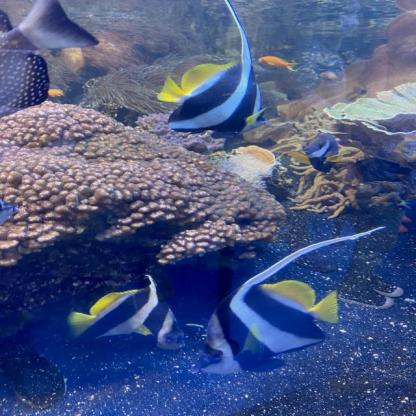fish: (192, 280, 338, 376), (0, 0, 98, 119), (157, 61, 269, 139), (68, 288, 184, 350), (290, 134, 348, 172), (257, 57, 300, 72), (319, 71, 339, 81), (49, 88, 64, 96)
